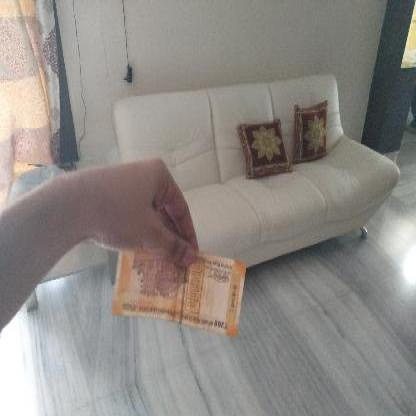New200Back: (110, 238, 242, 335)
